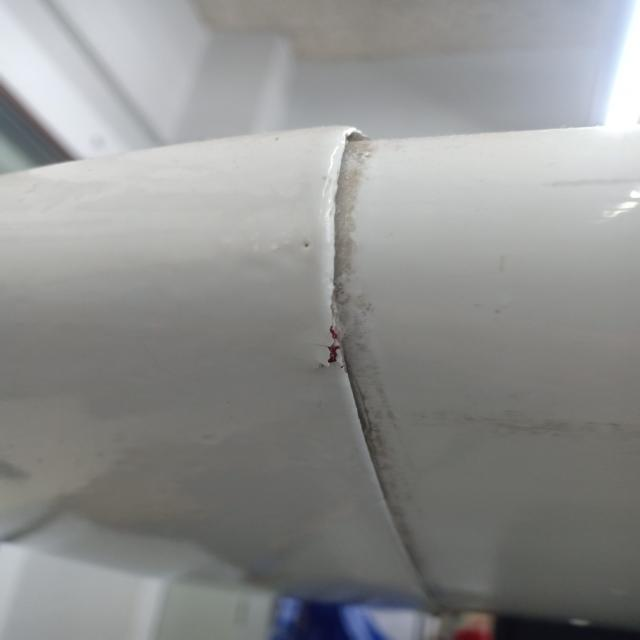Rupture: (276, 287, 376, 396)
